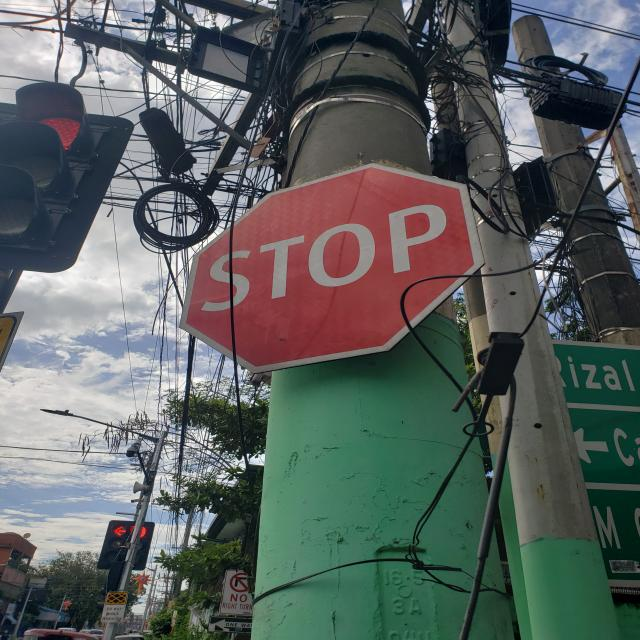stop-sign: (178, 162, 486, 374)
